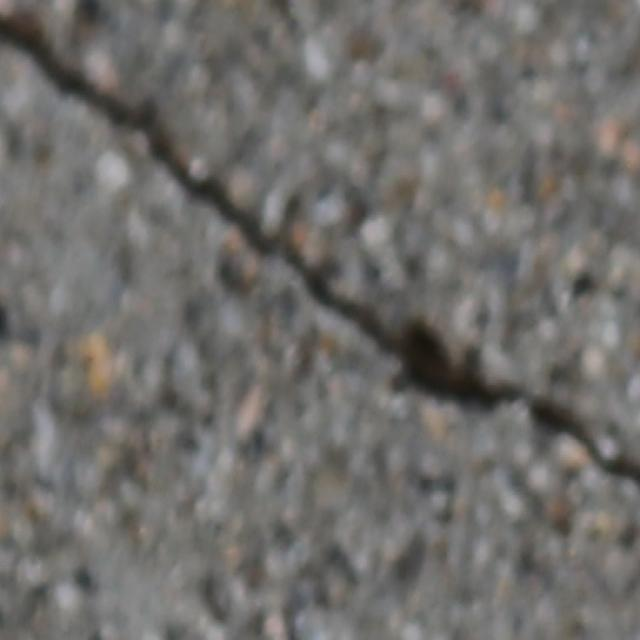crack: (1, 14, 639, 489)
